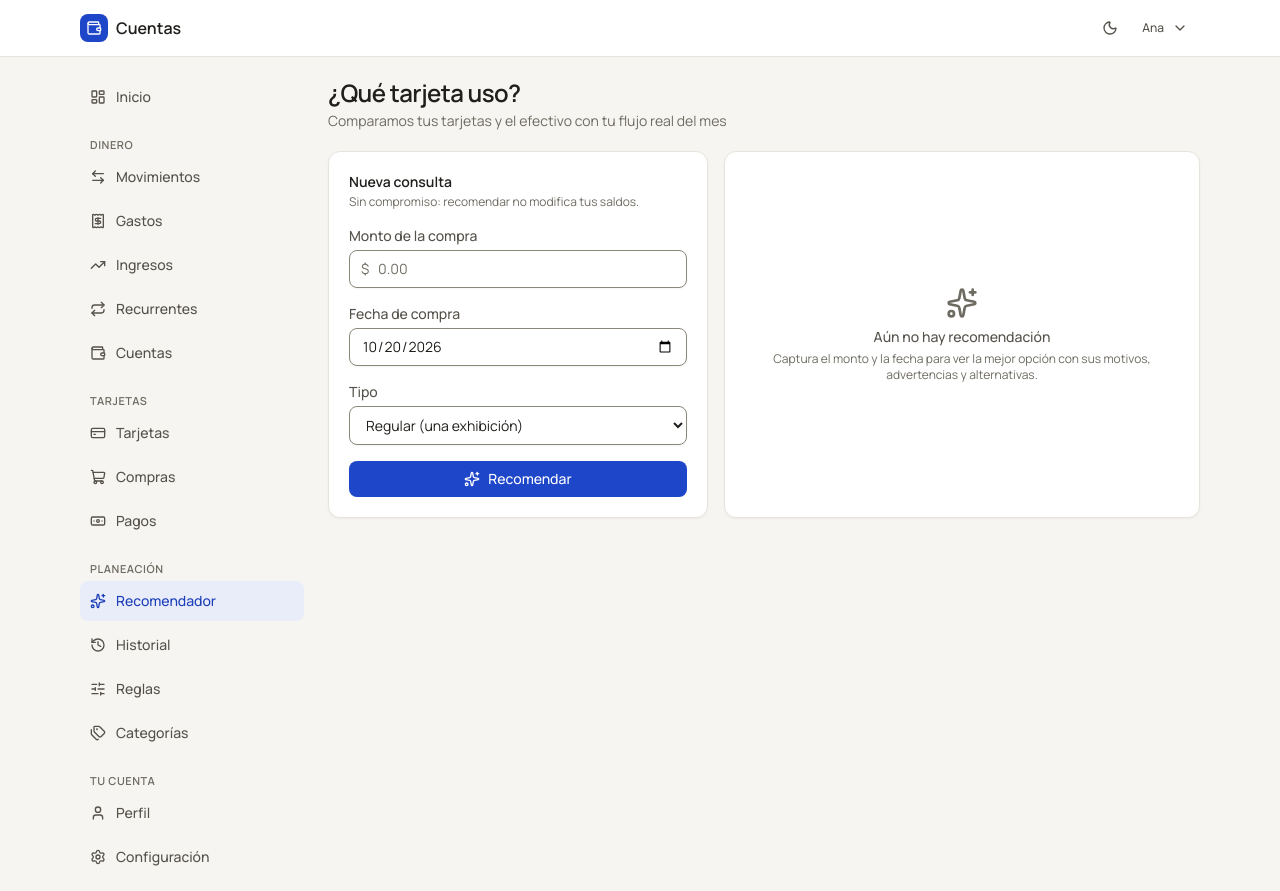
Test case: recomendador › recomienda con motivos, alternativas y disclaimer
Type "2500" into the field labelled "Monto de la compra". click: (518, 269)
box: [349,250,687,288]
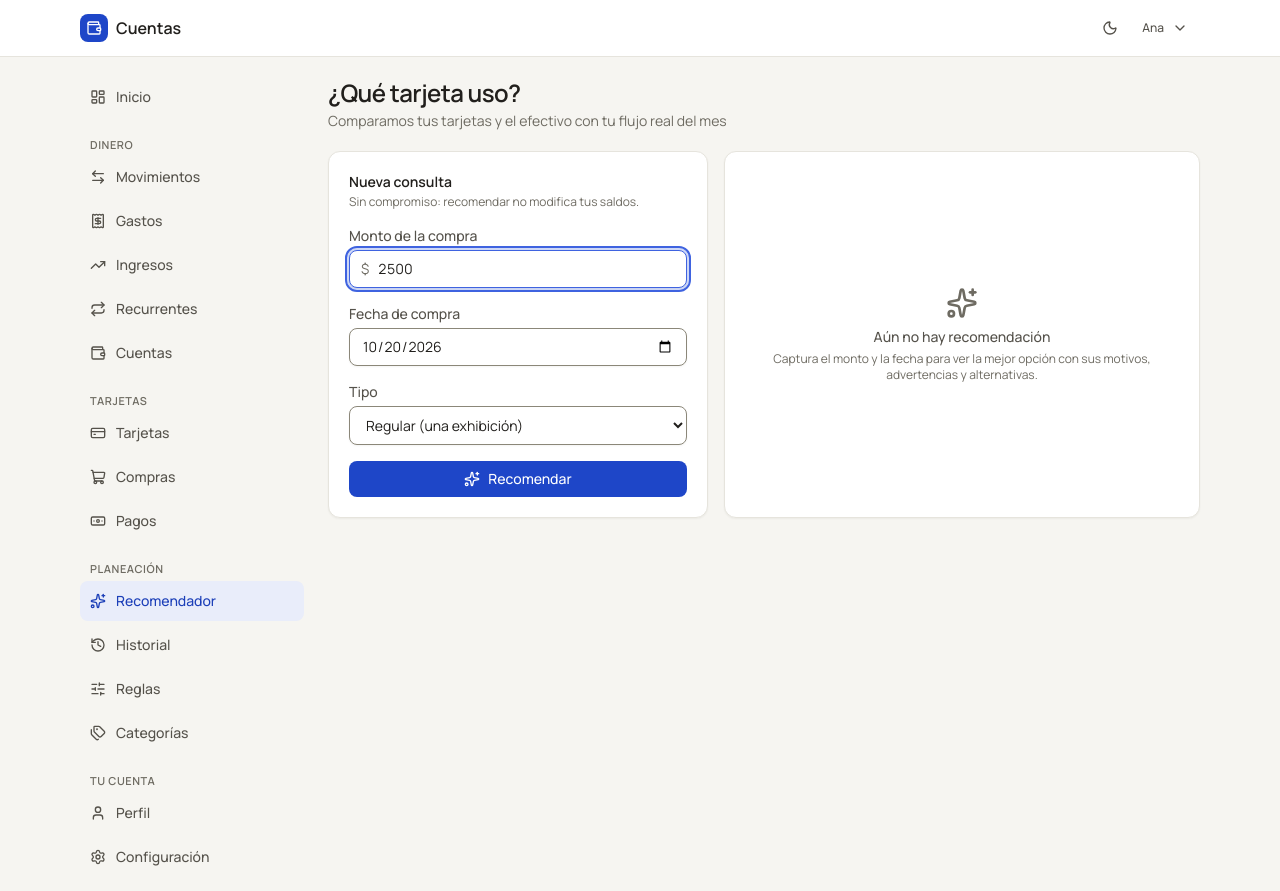
Click the button "Recomendar". click: click(518, 479)
box: [349,461,687,497]
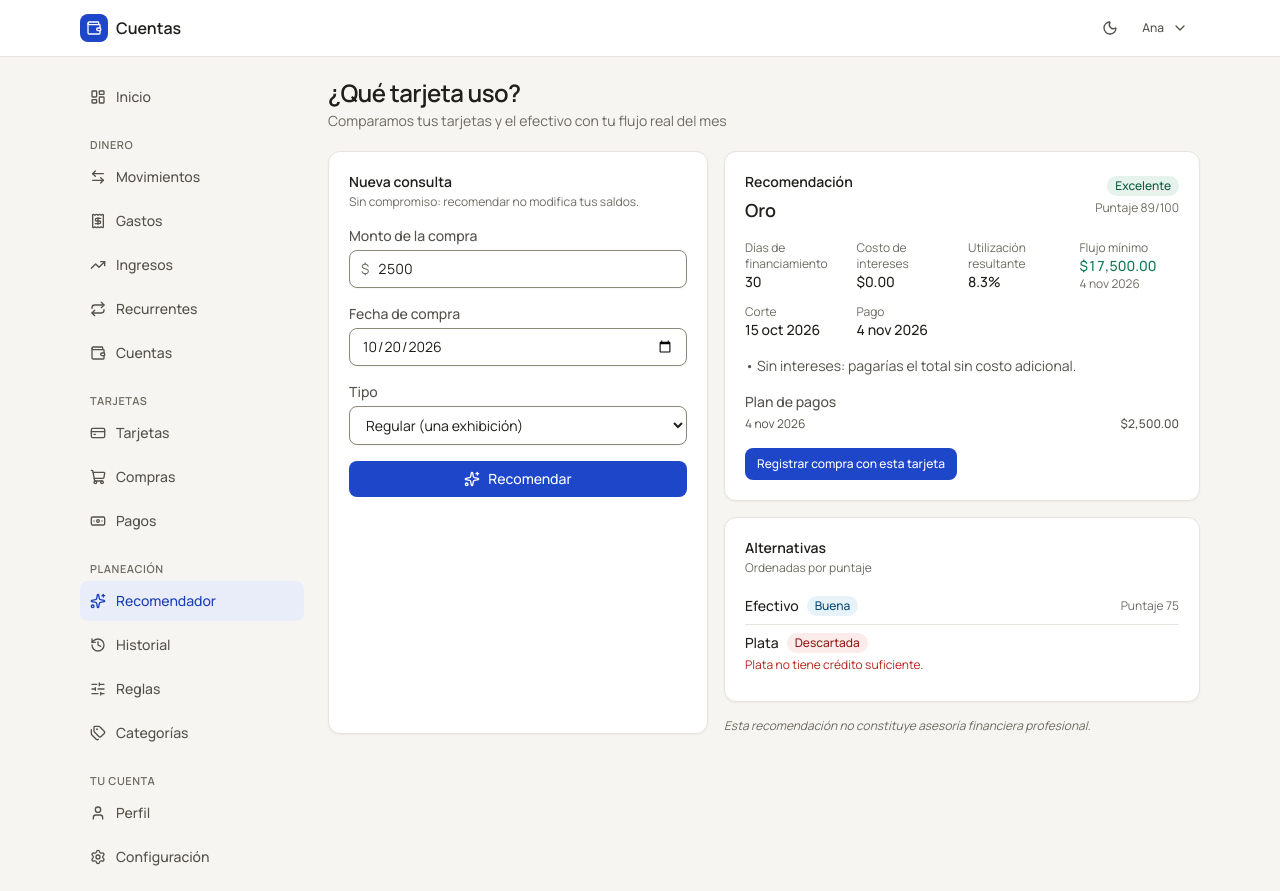
expect the text "Oro" is shown: met, box [745,198,776,222]
expect the text "Excelente" is shown: met, box [1107,176,1179,196]
expect the text "Puntaje 89/100" is shown: met, box [1095,200,1179,216]
